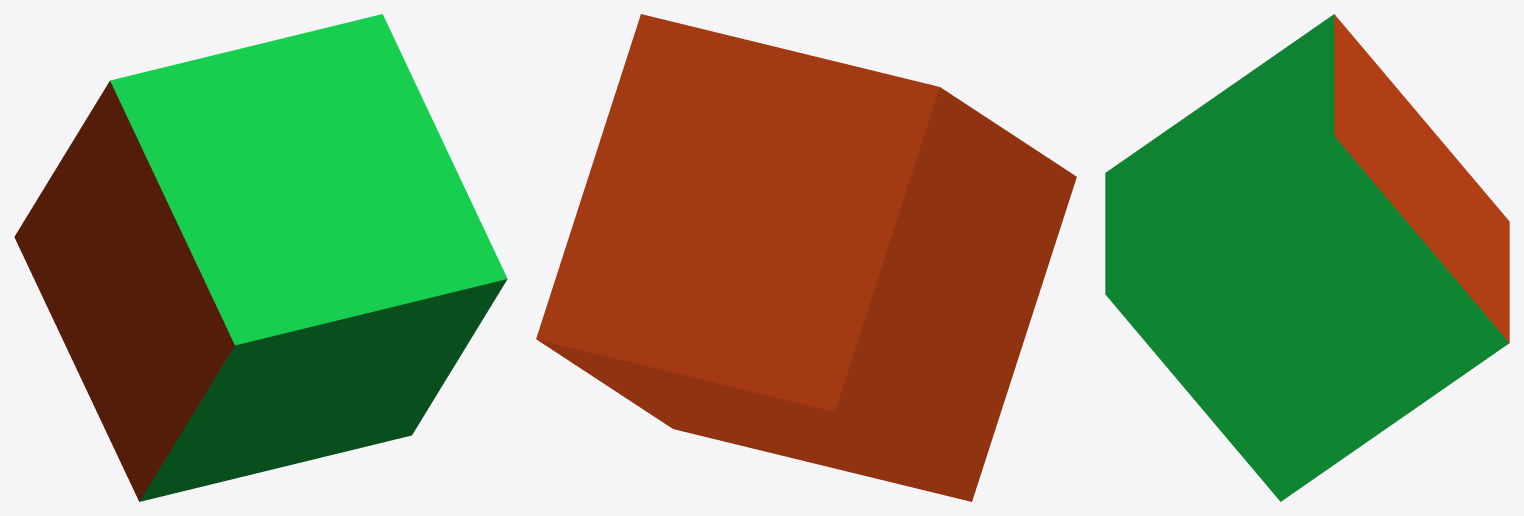
File: box_rot.dae
3 views of the same model, side by side, from view 1: azimuth 30°, elevation 25°; view 2: azimuth 150°, elevation 25°; view 3: azimuth 270°, elevation 25° (orthographic). The views are drawn at different scales.
Parts seen in each view (by area): view 1: Cube; view 2: Cube; view 3: Cube.
Boxes of the visible parts, x1,y1,x2,y2 form: Cube: (14, 14, 507, 501); Cube: (536, 14, 1076, 501); Cube: (1105, 14, 1509, 501).
Size of the model in its own units: 20 by 28.04 by 28.04.
